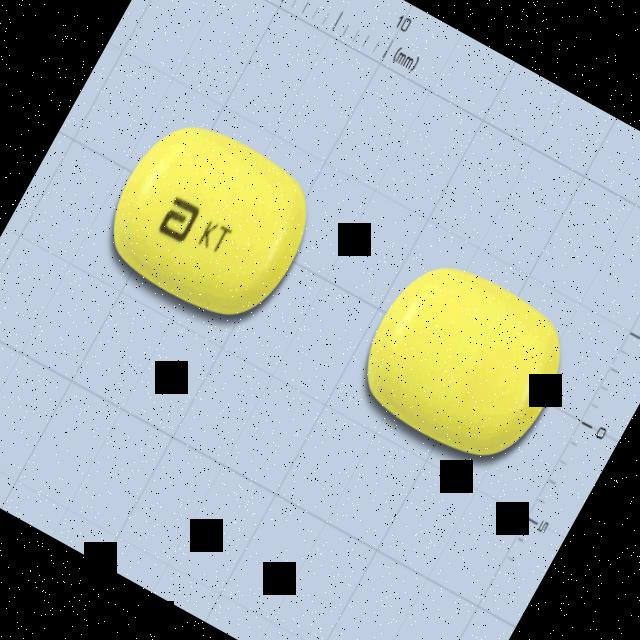Klaricid Film Coated - 500mg: (90, 102, 332, 339)
